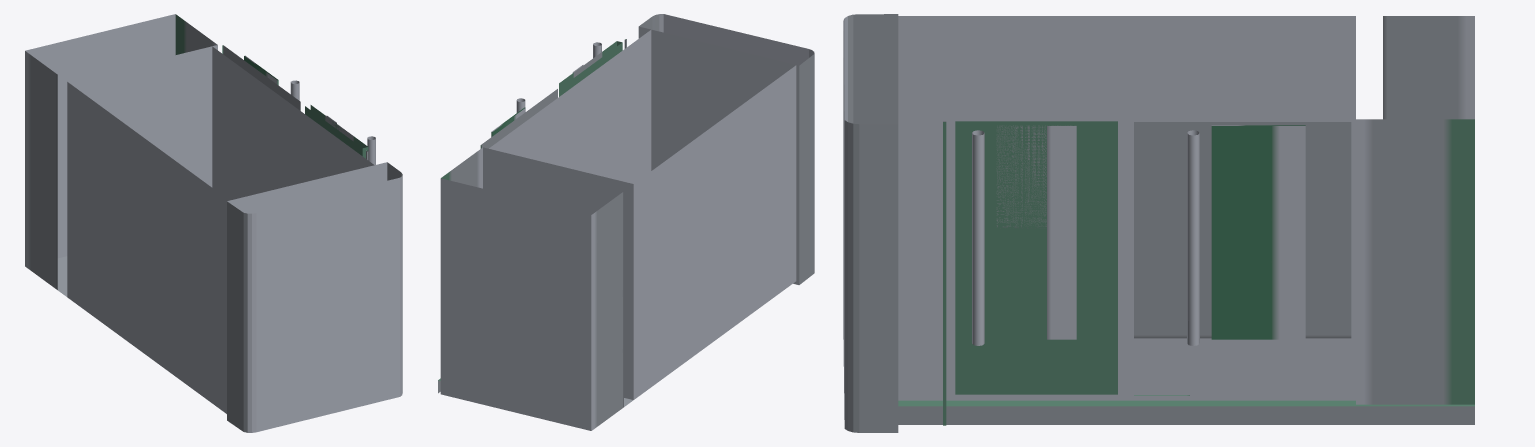
The model's file is section-1.obj.
3 renders of one model, left to right at view 1: azimuth 30°, elevation 25°; view 2: azimuth 150°, elevation 25°; view 3: azimuth 270°, elevation 25°, orthographic. The views are drawn at different scales.
Bounding box in the file's own units: 0.629 × 0.7445 × 1.48.
